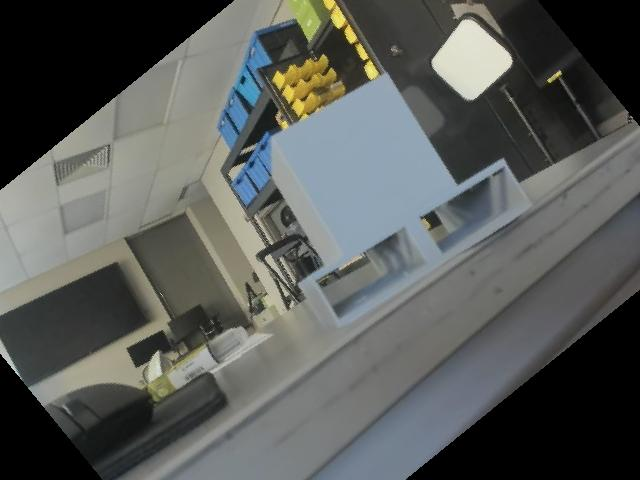grey pallet: (243, 71, 560, 334)
